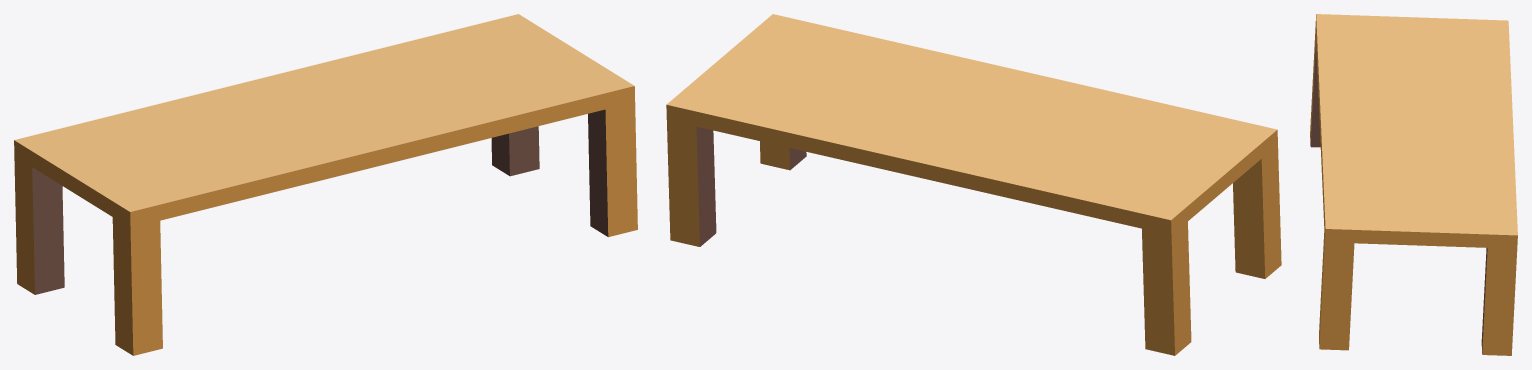
The model's file is Table.fbx.
3 views of the same model, side by side, from view 1: azimuth 30°, elevation 25°; view 2: azimuth 150°, elevation 25°; view 3: azimuth 270°, elevation 25° (orthographic). The views are drawn at different scales.
Visible parts, largest first — view 1: mesh_550410507, mesh_1403296693, mesh_1966411861, mesh_1091922532, mesh_183103956; view 2: mesh_550410507, mesh_1091922532, mesh_183103956, mesh_1403296693, mesh_1966411861; view 3: mesh_550410507, mesh_1966411861, mesh_183103956, mesh_1403296693.
Boxes of the visible parts, box(x1,y1,x2,y2) form: mesh_550410507: box(14, 14, 634, 227); mesh_1403296693: box(112, 217, 162, 355); mesh_1966411861: box(588, 102, 637, 237); mesh_1091922532: box(14, 156, 64, 294); mesh_183103956: box(491, 126, 539, 176); mesh_550410507: box(666, 14, 1277, 235); mesh_1091922532: box(1142, 222, 1191, 355); mesh_183103956: box(667, 120, 716, 246); mesh_1403296693: box(1233, 145, 1281, 278); mesh_1966411861: box(760, 141, 806, 170); mesh_550410507: box(1315, 14, 1517, 248); mesh_1966411861: box(1319, 233, 1354, 350); mesh_183103956: box(1481, 248, 1517, 355); mesh_1403296693: box(1310, 27, 1320, 147).
Size of the model in its own units: 34.27 by 9.74 by 14.03.
